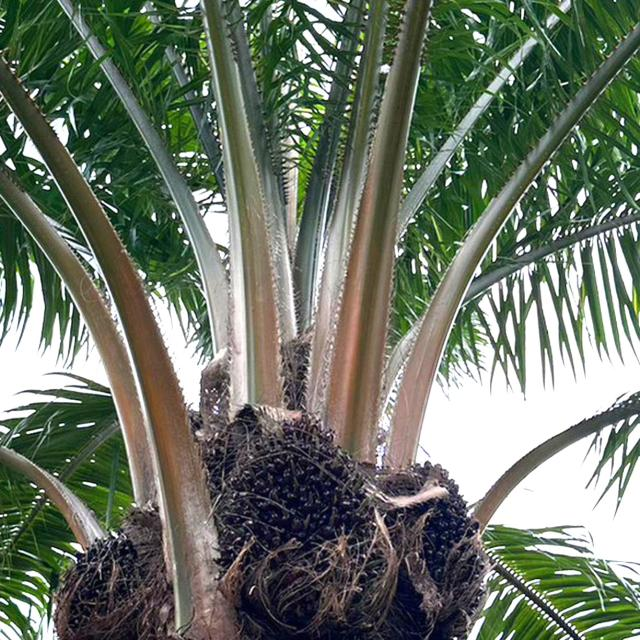almost: (212, 419, 378, 632), (387, 454, 487, 630), (54, 532, 156, 628)
